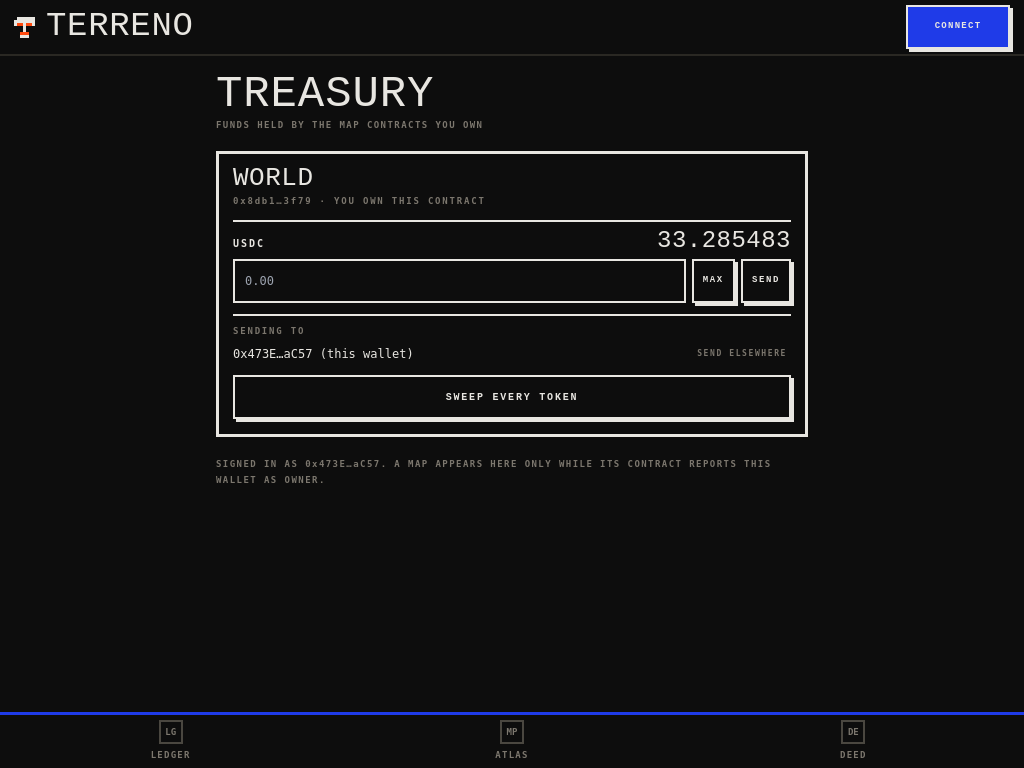
before anything is signed › asks in words before a sweep, naming where the money goes
Click the button "SWEEP EVERY TOKEN": click(512, 397) [233,375,791,419]
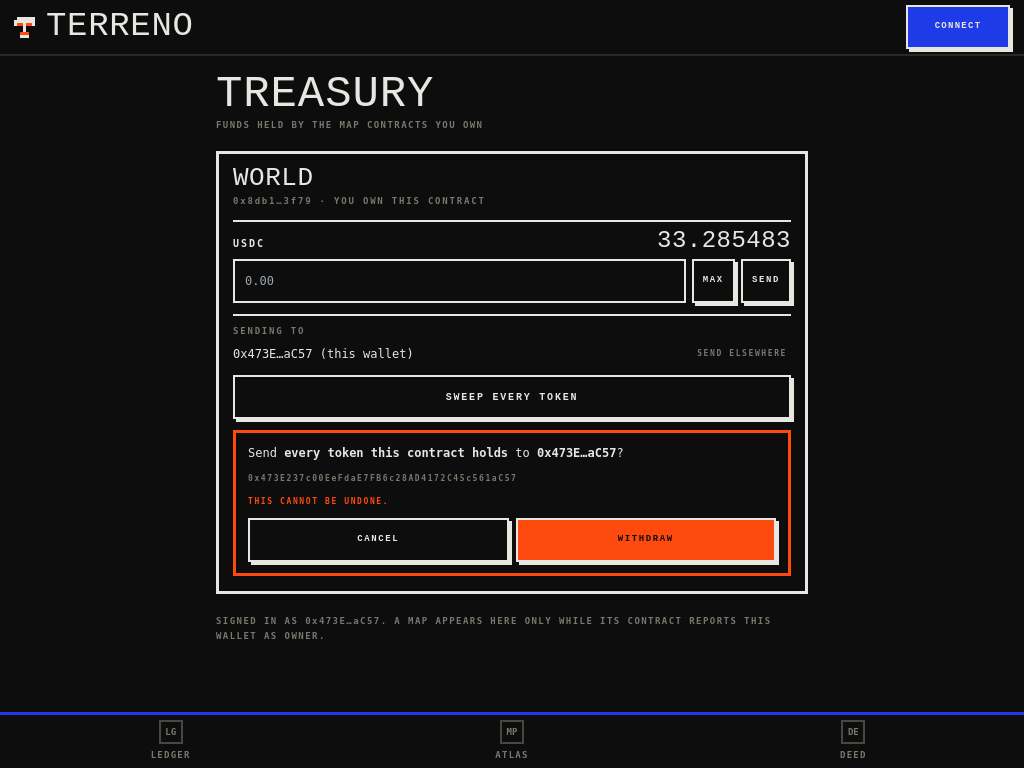
Check: the dialog shows "every token this contract holds", box [284,446,508,460]
Check: the dialog shows "0x473E237c00EeFdaE7FB6c28AD4172C45c561aC57", box [248,474,518,484]
Check: the dialog shows "cannot be undone", box [248,497,389,506]
